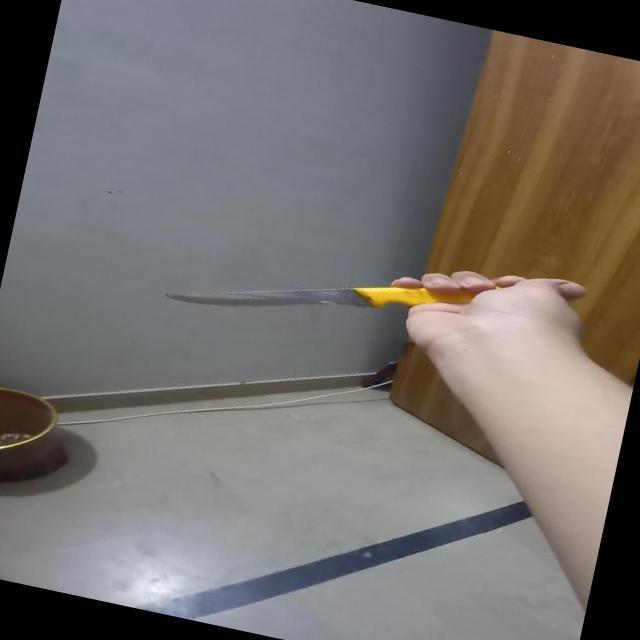Knife: (142, 202, 547, 396)
